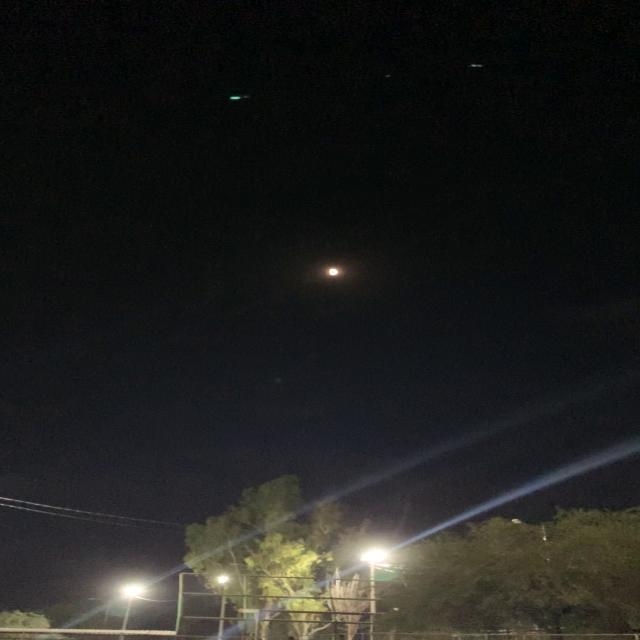moon: (327, 259, 347, 289)
